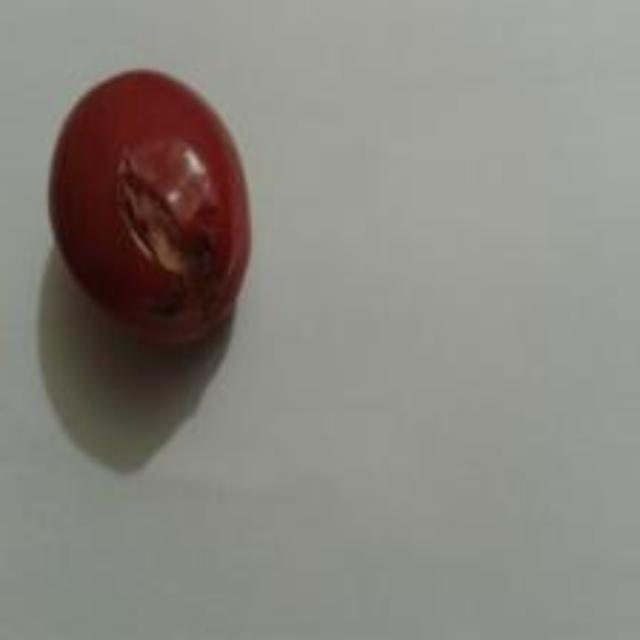defect: (43, 64, 272, 360)
